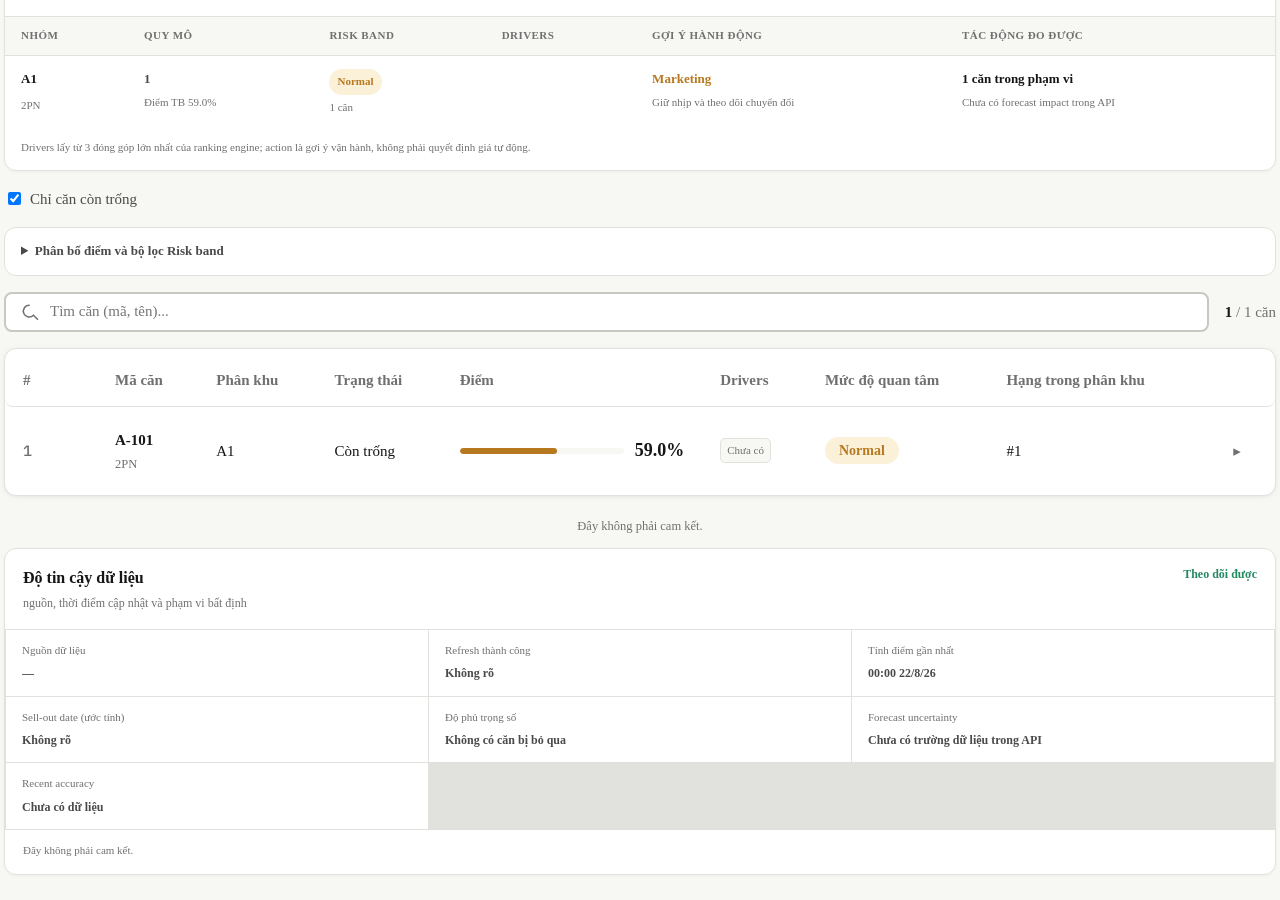
Test case: RankingPage — hierarchical disclosure (PR-7) › surfaces the comparability warning when the backend sends one
(page scrolled)
Click the text "A-101".
click(640, 451)  # box [5, 412, 1275, 490]
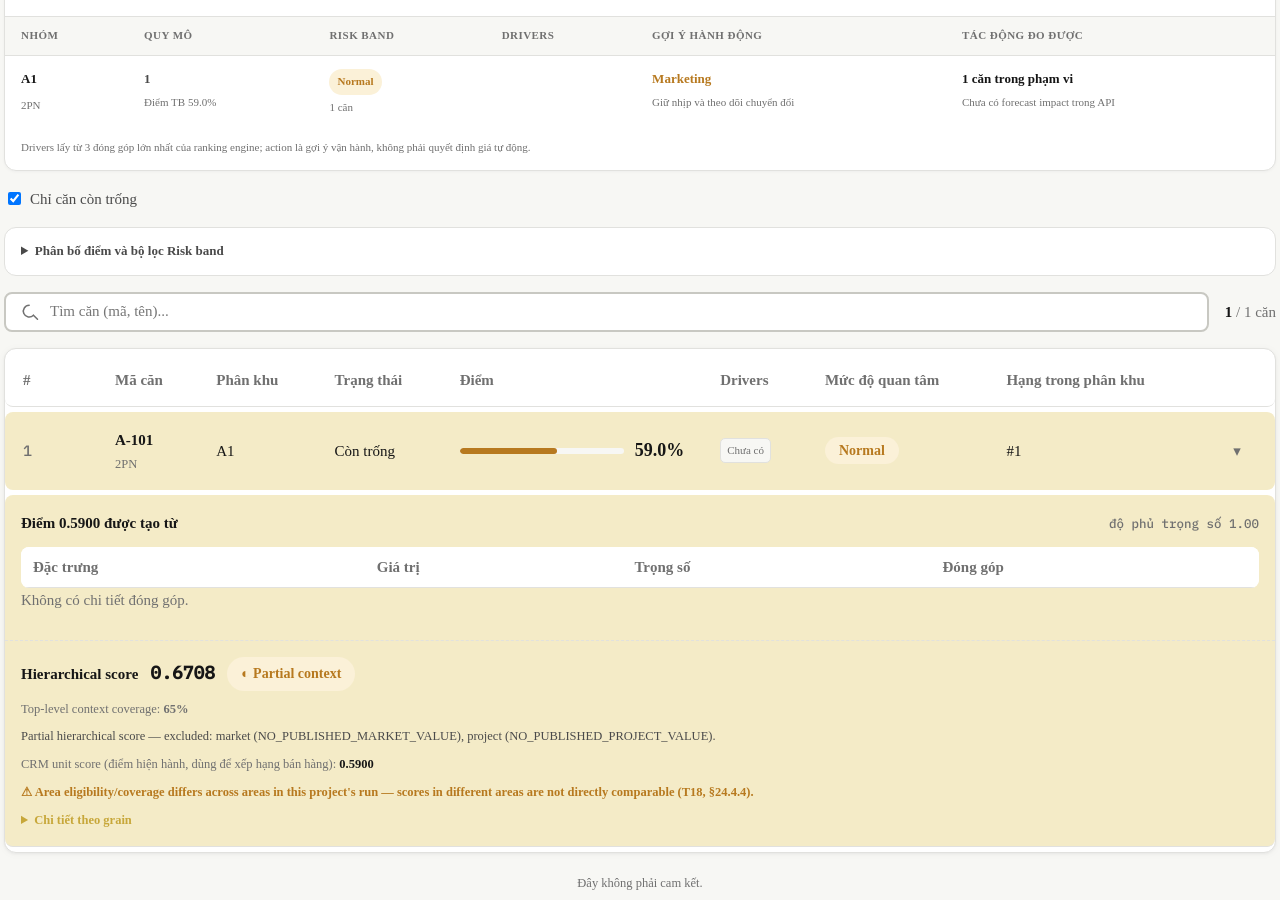
Expected: the text "not directly comparable" is shown, [35, 785, 754, 799]
